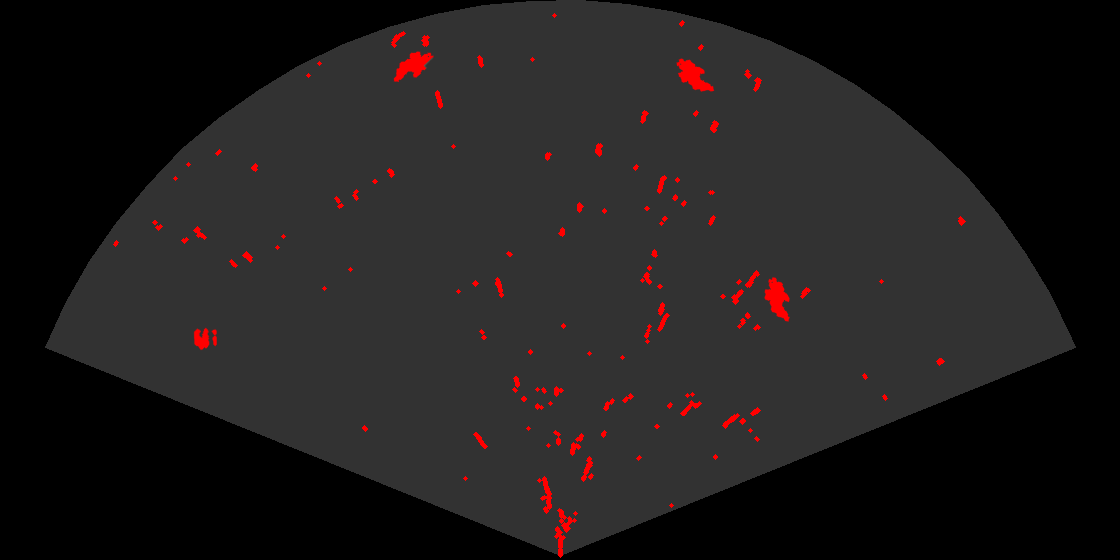AUV: (675, 57, 716, 93), (392, 50, 435, 84), (763, 276, 791, 323)
ball: (192, 326, 218, 352)
